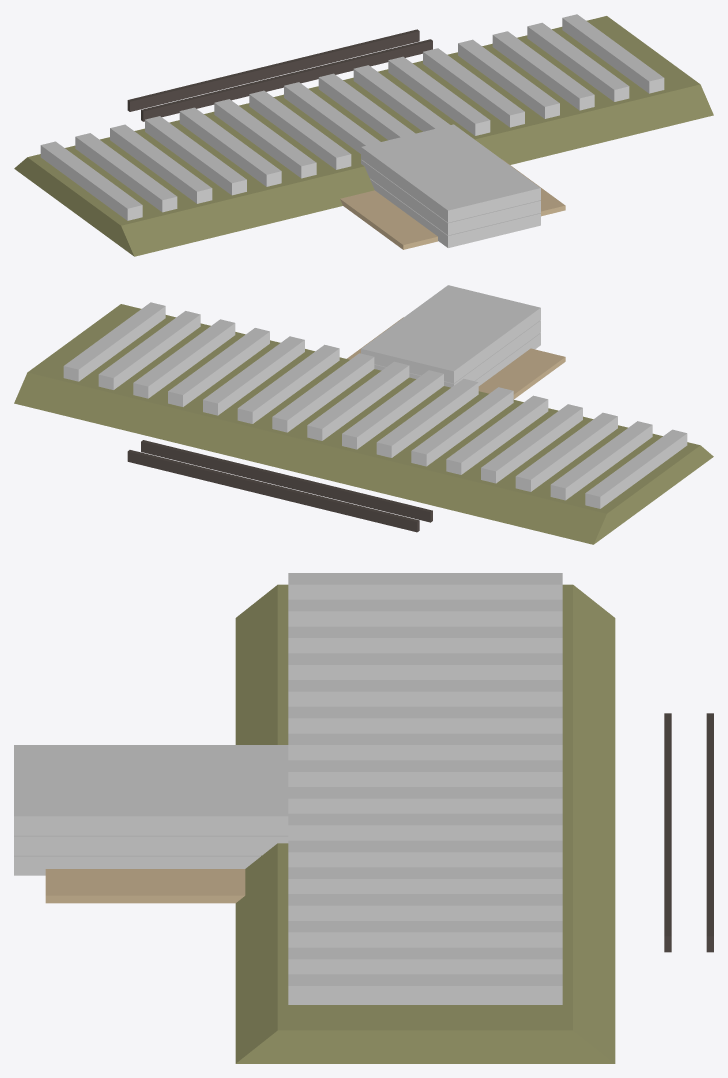
File: SM_Via_Recta10_v3_Obra_LOD0.fbx
3 views of the same model, one above another, from view 1: azimuth 30°, elevation 25°; view 2: azimuth 150°, elevation 25°; view 3: azimuth 270°, elevation 25° (orthographic). The views are drawn at different scales.
Visible parts, largest first — view 1: SM_via_trazado_v3_LOD0; view 2: SM_via_trazado_v3_LOD0; view 3: SM_via_trazado_v3_LOD0.
Part boxes in pixels (box(x1,y1,x2,y2)): SM_via_trazado_v3_LOD0: box(14, 14, 713, 256); SM_via_trazado_v3_LOD0: box(14, 285, 713, 544); SM_via_trazado_v3_LOD0: box(14, 573, 713, 1063).
Bounding box in the file's own units: 10 × 0.63 × 6.64.
